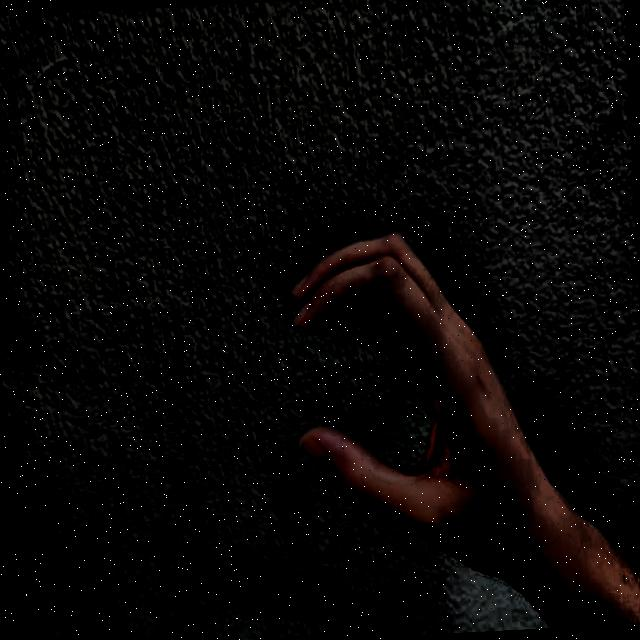A: (258, 199, 512, 605)
